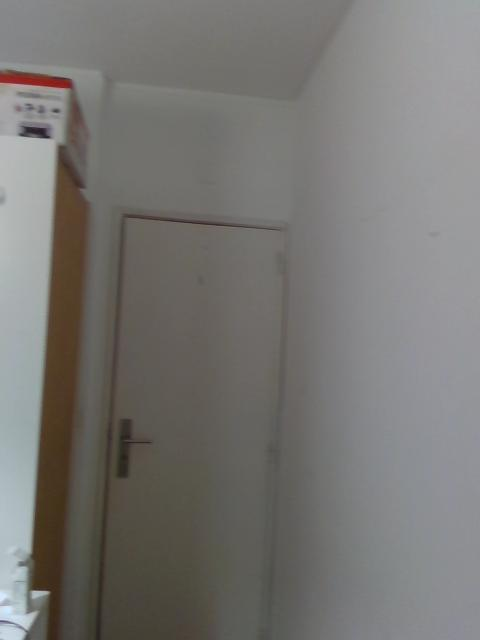door: (98, 215, 282, 640)
